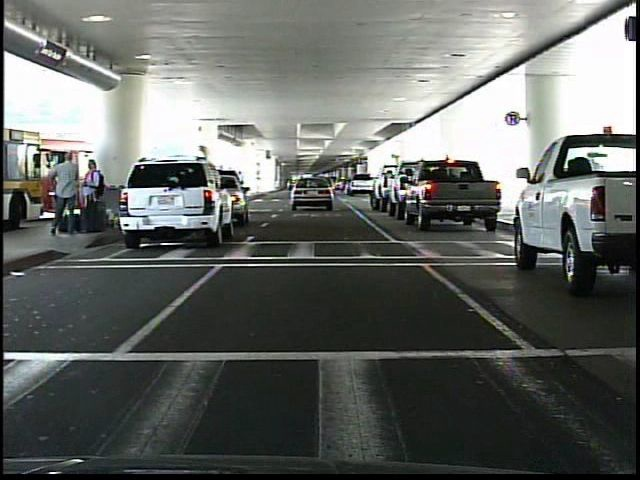person: (46, 152, 78, 236), (83, 155, 109, 236)
